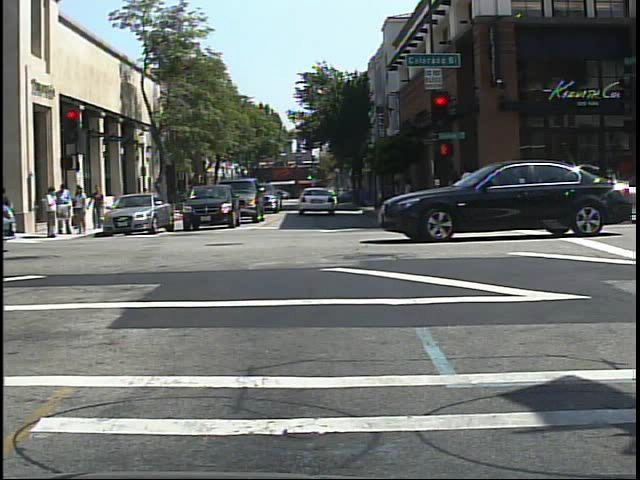person: (75, 186, 89, 229), (138, 183, 155, 215)
